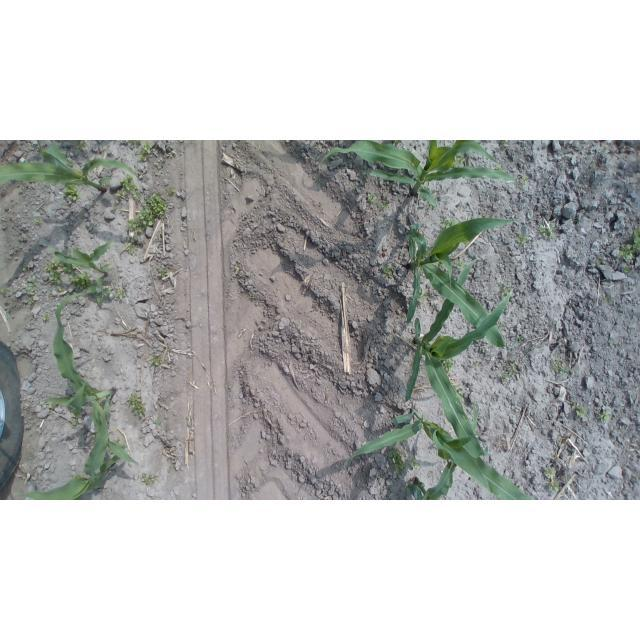Maize: (343, 410, 537, 500), (39, 293, 138, 465), (405, 259, 490, 457), (405, 218, 516, 349), (316, 140, 520, 208), (14, 394, 118, 500), (1, 140, 140, 192), (410, 403, 478, 500), (47, 239, 113, 289)
Weeds: (127, 192, 169, 235), (116, 174, 141, 201), (87, 277, 111, 305), (44, 258, 64, 283), (69, 272, 95, 289), (127, 393, 146, 416), (389, 448, 406, 473), (552, 355, 568, 377), (538, 223, 557, 240), (137, 141, 152, 161), (618, 243, 634, 261), (63, 184, 79, 201), (571, 403, 587, 418), (631, 227, 640, 253), (451, 154, 466, 169), (381, 262, 395, 278), (440, 219, 459, 230), (125, 238, 137, 254), (441, 357, 454, 371), (599, 409, 613, 422), (408, 456, 421, 470), (141, 473, 156, 485), (498, 282, 510, 296), (509, 359, 518, 375), (74, 140, 86, 152), (418, 288, 429, 301), (150, 355, 162, 366), (157, 267, 170, 277), (64, 263, 77, 273), (423, 187, 435, 197), (27, 279, 36, 292), (548, 481, 559, 491), (545, 467, 556, 477), (454, 260, 466, 269), (117, 288, 126, 300), (517, 235, 528, 244), (455, 388, 464, 399), (407, 482, 414, 495), (367, 194, 377, 203), (110, 201, 119, 211), (495, 164, 506, 172), (497, 322, 506, 331), (501, 371, 509, 381), (433, 262, 444, 269), (167, 188, 175, 197), (380, 200, 388, 208), (427, 200, 434, 209), (155, 419, 164, 426), (127, 140, 141, 144), (523, 174, 530, 182), (70, 419, 78, 426), (28, 297, 35, 305), (26, 140, 33, 148), (167, 151, 176, 157), (33, 219, 42, 225), (1, 288, 11, 293), (624, 266, 631, 273), (49, 404, 56, 411), (22, 263, 28, 271), (517, 335, 524, 341), (42, 314, 48, 321), (603, 295, 609, 301), (121, 442, 127, 448), (235, 266, 242, 271), (501, 141, 508, 146), (609, 339, 615, 344), (596, 260, 602, 265), (419, 193, 423, 200), (513, 407, 519, 411), (474, 361, 478, 367), (250, 294, 257, 297), (92, 434, 97, 438), (113, 440, 119, 443)
